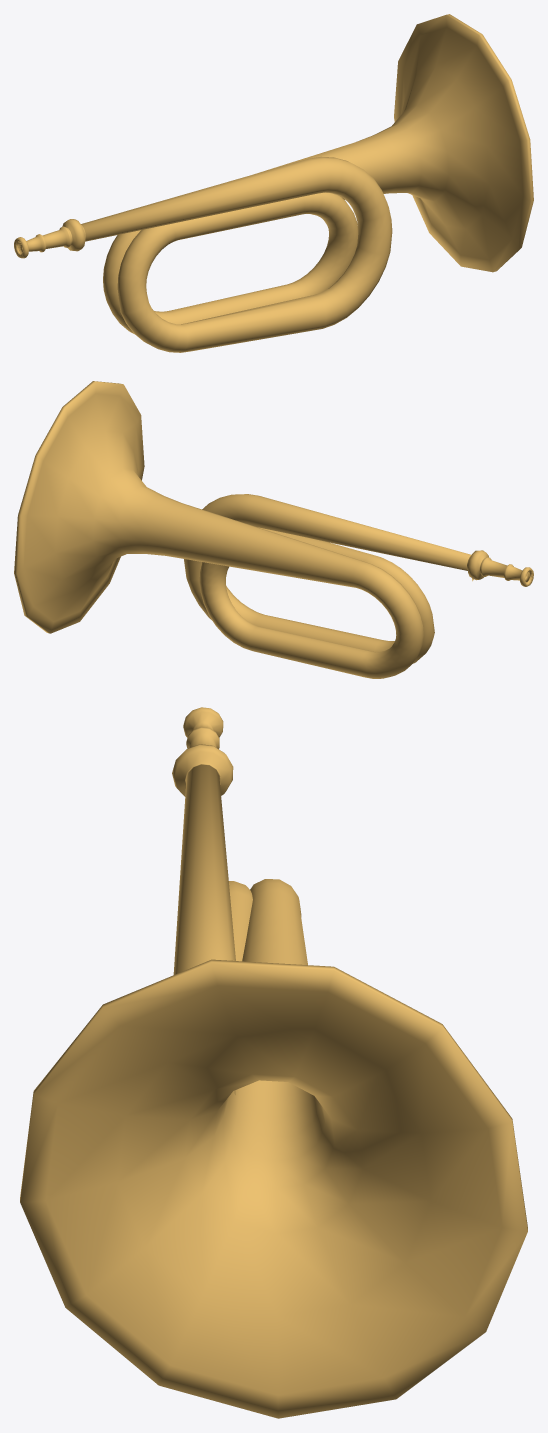
File: trompeta.fbx
3 renders of one model, top to bottom at view 1: azimuth 30°, elevation 25°; view 2: azimuth 150°, elevation 25°; view 3: azimuth 270°, elevation 25°, orthographic. The views are drawn at different scales.
Parts seen in each view (by area): view 1: trompeta; view 2: trompeta; view 3: trompeta.
Boxes of the visible parts, x1,y1,x2,y2 form: trompeta: (14,14,533,352); trompeta: (14,381,533,678); trompeta: (20,707,527,1418).
Bounding box in the file's own units: 120727 × 61062 × 61147.
